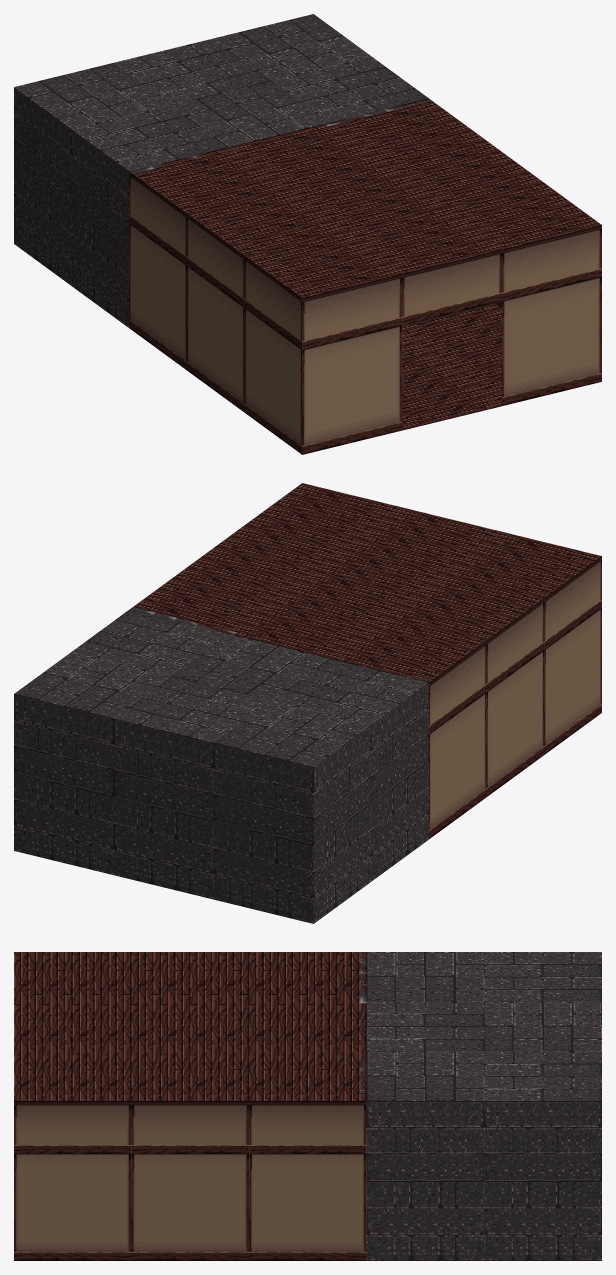
The model's file is treasury.obj.
The picture shows the model from 3 angles, top to bottom: view 1: azimuth 30°, elevation 25°; view 2: azimuth 150°, elevation 25°; view 3: azimuth 270°, elevation 25°; orthographic projection.
Visible parts, largest first — view 1: Default; view 2: Default; view 3: Default.
Part boxes in pixels (x1,y1,x2,y2): Default: [14, 14, 601, 454]; Default: [14, 483, 601, 923]; Default: [14, 952, 601, 1260].
Size of the model in its own units: 3.84 by 1.92 by 6.4.
2 materials, 2 textured.
